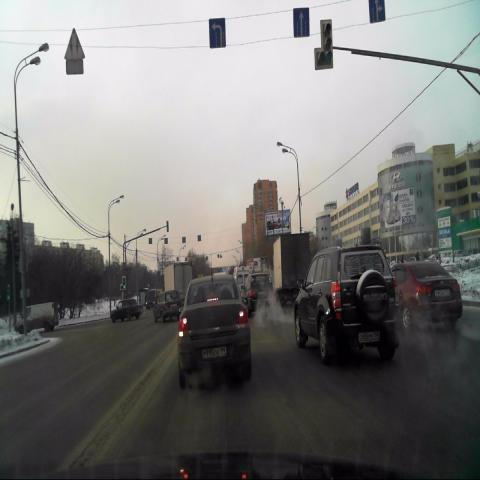5_15_2: (368, 0, 385, 24)
